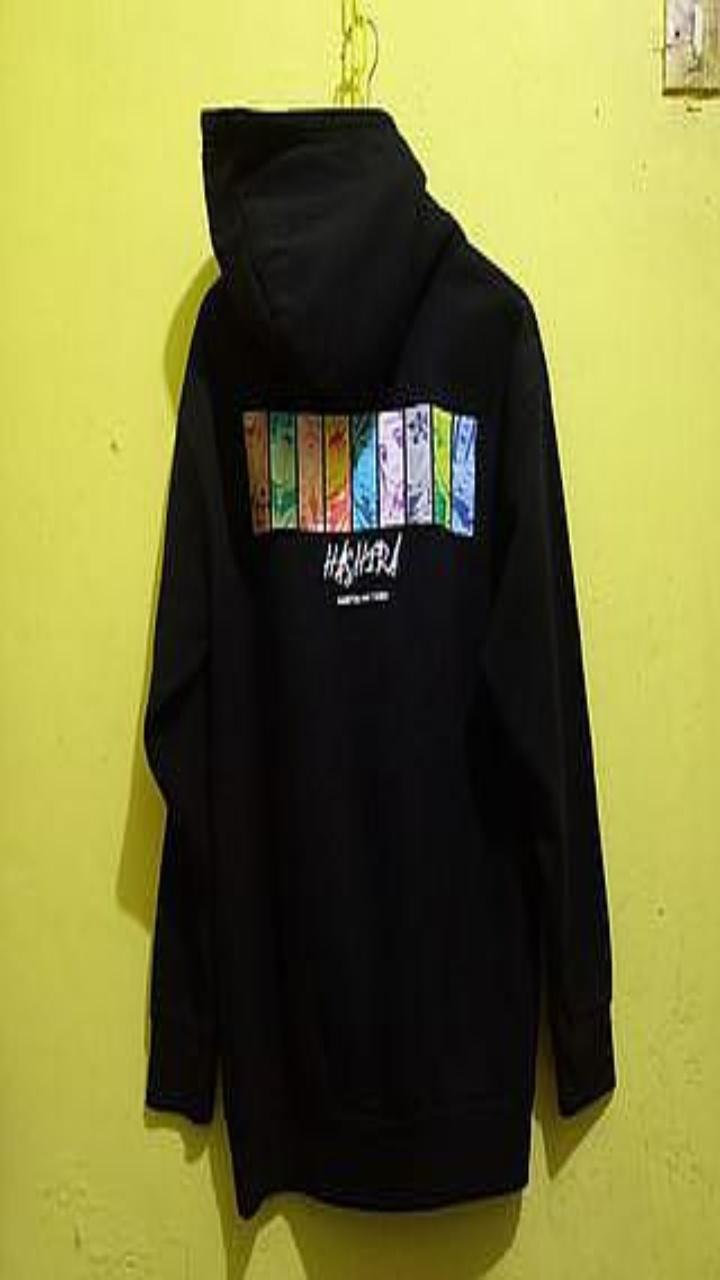Hoodie: (144, 107, 614, 1217)
